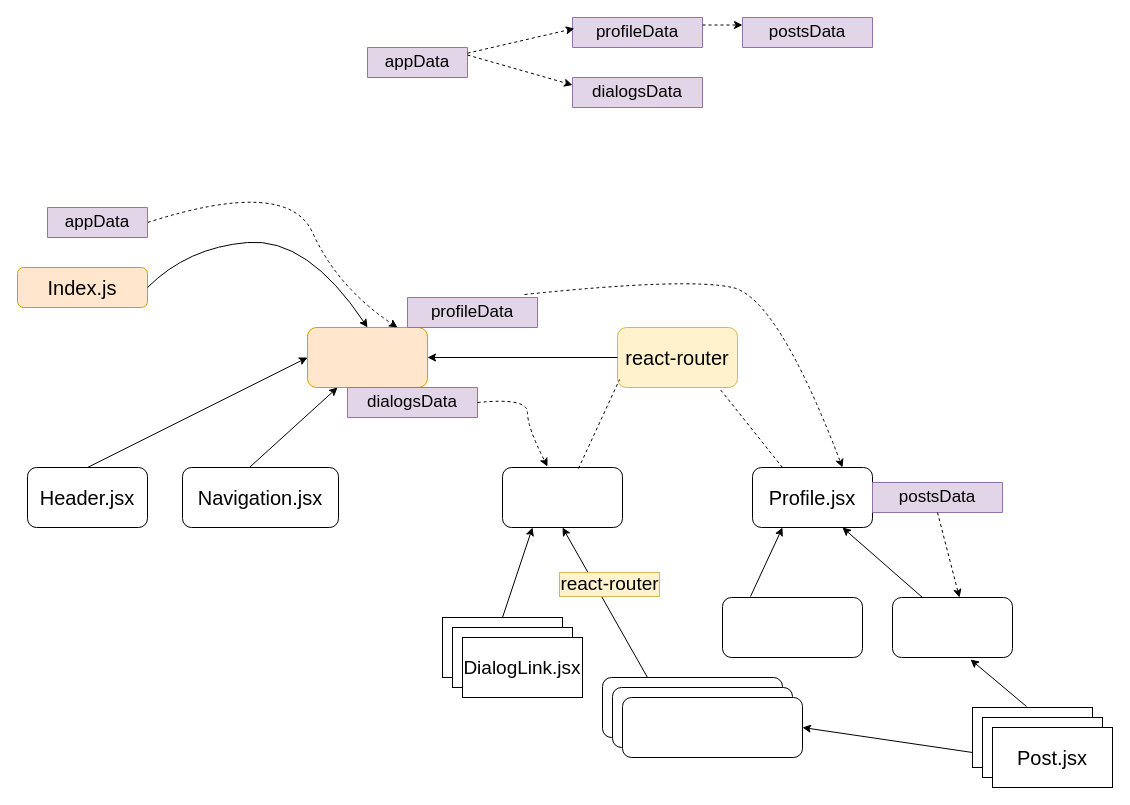
The diagram is 1130 pixels wide and 805 high, and some of its shapes have lost their labels. Here are the shapes that lost their labels. From the top down, the centre of each, then its label:
the point at 367,357: App.js
the point at 562,497: Dialogs.jsx
the point at 792,627: ProfileInfo.jsx
the point at 952,627: MyPosts.jsx
the point at 712,727: DialodMessages.jsx
